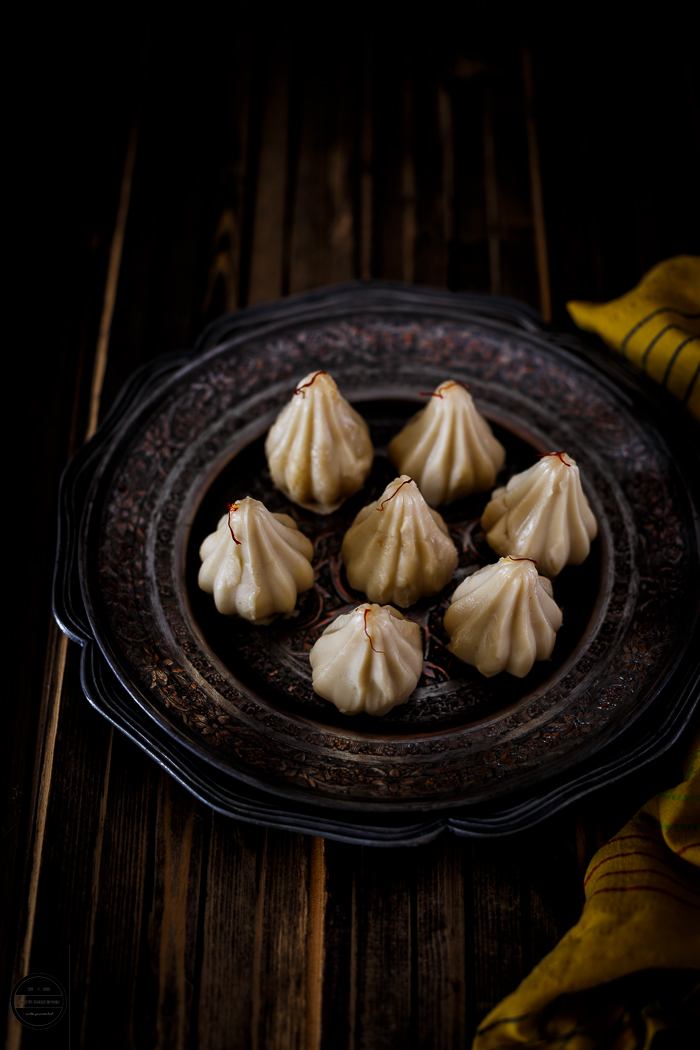modak: (198, 497, 319, 625), (336, 474, 450, 602), (478, 448, 601, 566), (387, 378, 514, 491), (310, 601, 436, 697), (277, 375, 366, 503), (466, 566, 569, 673)
